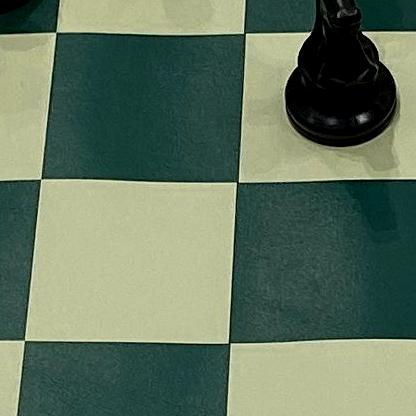black-knight: (274, 0, 404, 158)
